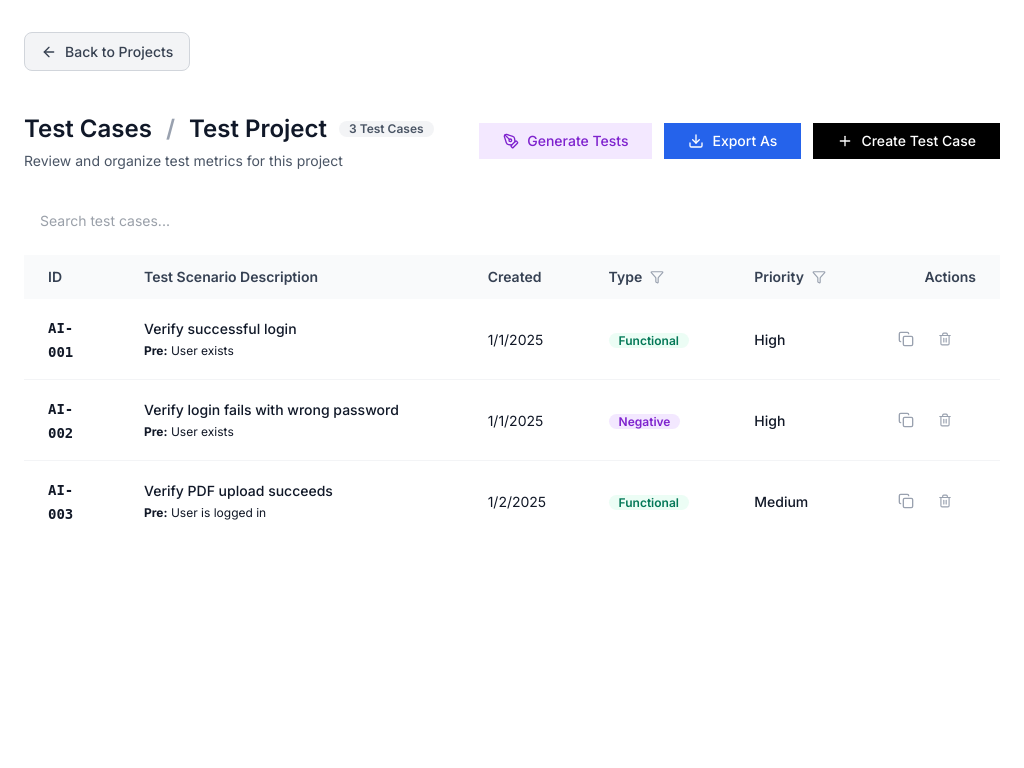
Test: TestCasesView – row expansion › clicking a row expands it to show test steps
Click the text "Verify successful login" at (512, 339), box [24,299,1000,380]
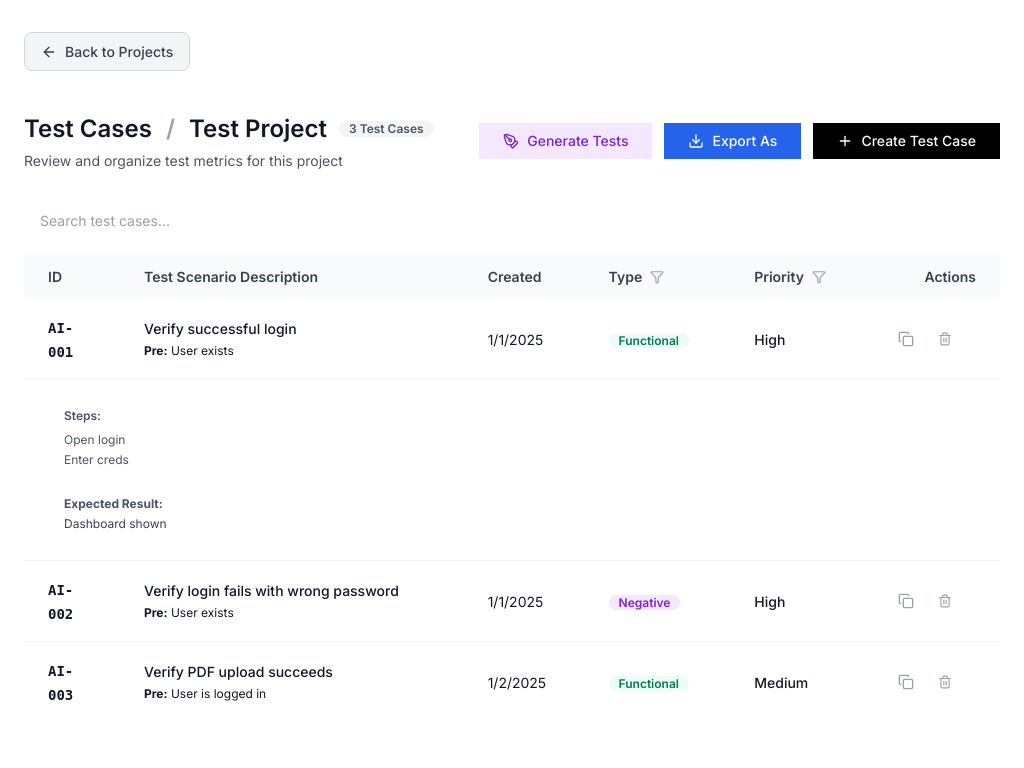
expect the list item "Open login" is shown: met, box [64,432,126,447]
